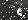person: (13, 3, 22, 16)
